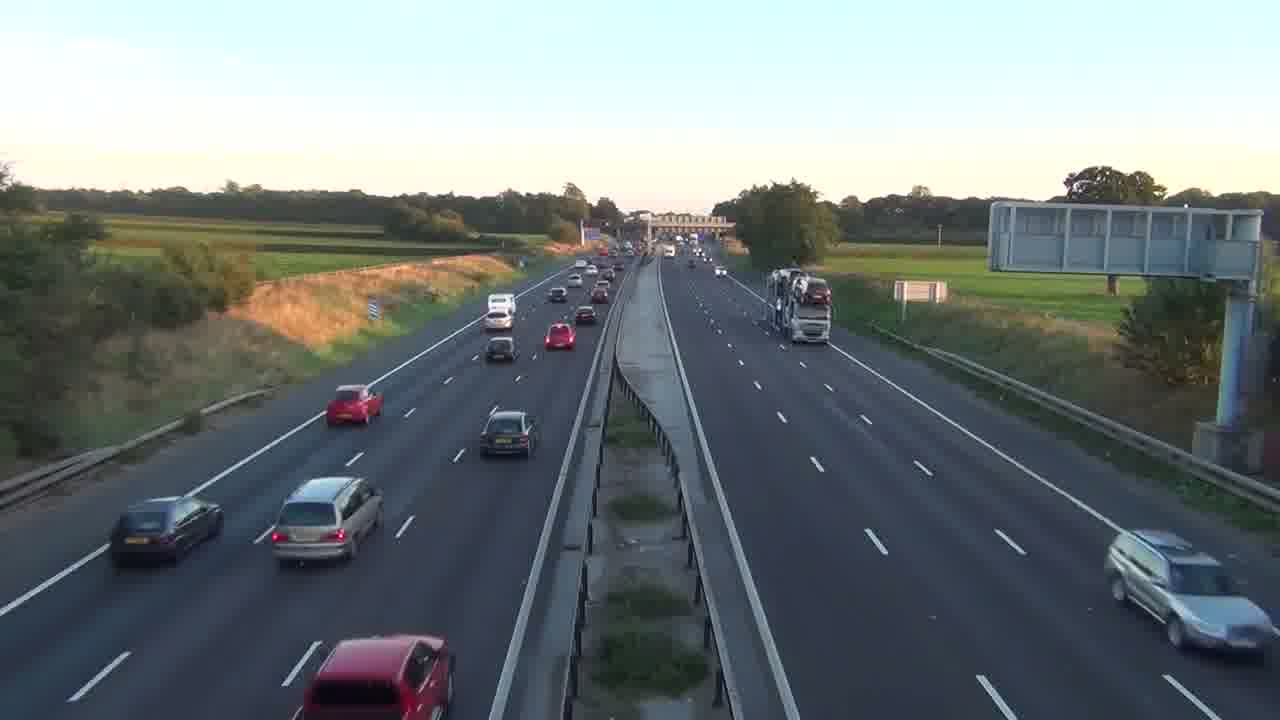car: (290, 632, 454, 719), (269, 475, 384, 567), (109, 494, 224, 567), (478, 409, 541, 458), (326, 384, 384, 426), (544, 320, 576, 350), (484, 335, 516, 362), (574, 305, 597, 326)
truck: (1104, 526, 1279, 662)
